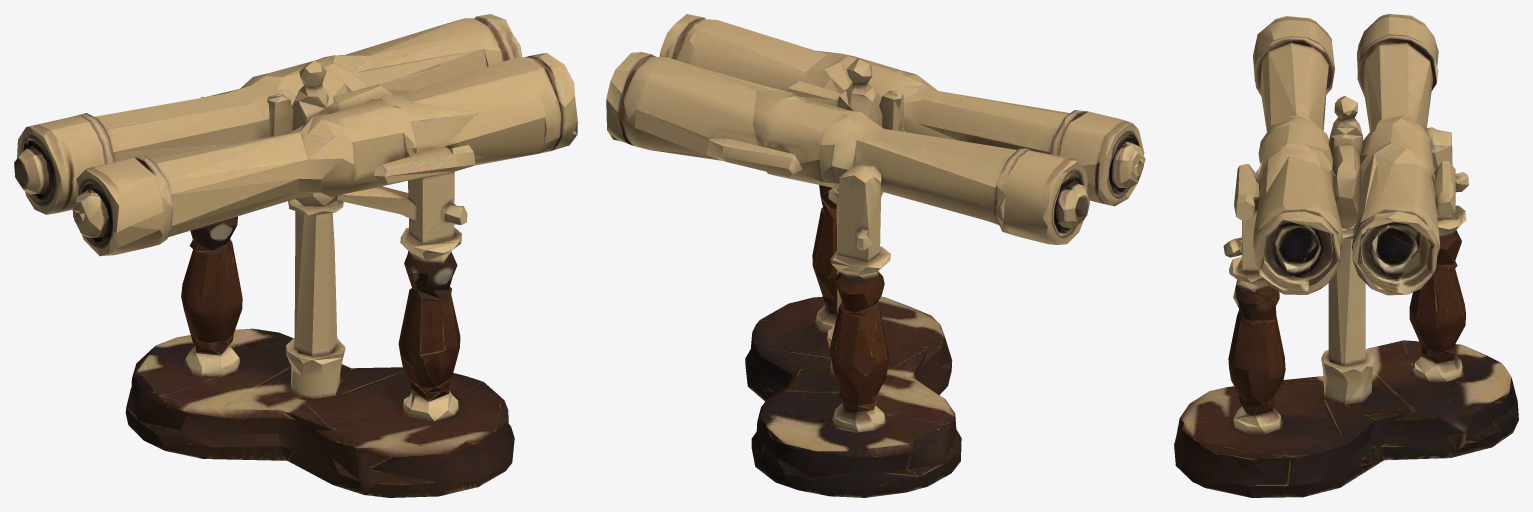
3 renders of one model, left to right at view 1: azimuth 30°, elevation 25°; view 2: azimuth 150°, elevation 25°; view 3: azimuth 270°, elevation 25°, orthographic. The views are drawn at different scales.
Size of the model in its own units: 1 by 0.742 by 0.6844.
1 material, 1 textured.
